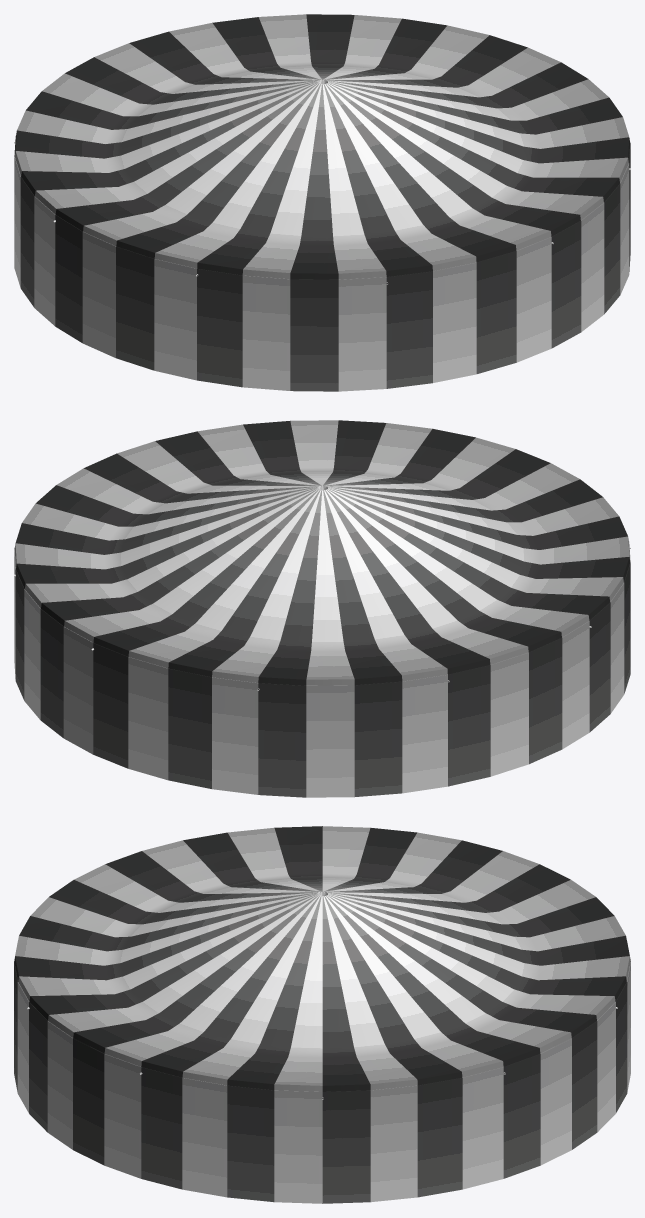
Rendered from Circus_Tent.fbx.
The picture shows the model from 3 angles, top to bottom: view 1: azimuth 30°, elevation 25°; view 2: azimuth 150°, elevation 25°; view 3: azimuth 270°, elevation 25°; orthographic projection.
Parts seen in each view (by area): view 1: Circus_Tent; view 2: Circus_Tent; view 3: Circus_Tent.
Part boxes in pixels (bbox=[...]): Circus_Tent: bbox=[14, 14, 630, 391]; Circus_Tent: bbox=[14, 420, 630, 797]; Circus_Tent: bbox=[14, 826, 630, 1203].
Size of the model in its own units: 9853 by 3170 by 9801.
Materials: 1 (1 with a texture image).
